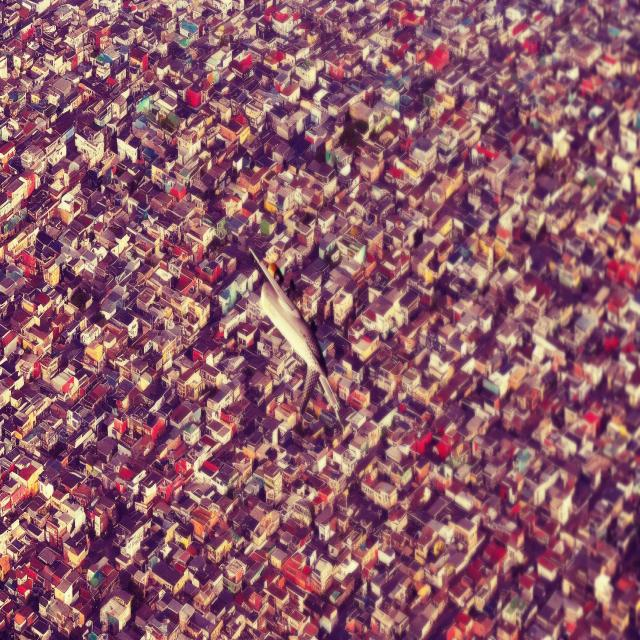airplane: (246, 245, 342, 429)
